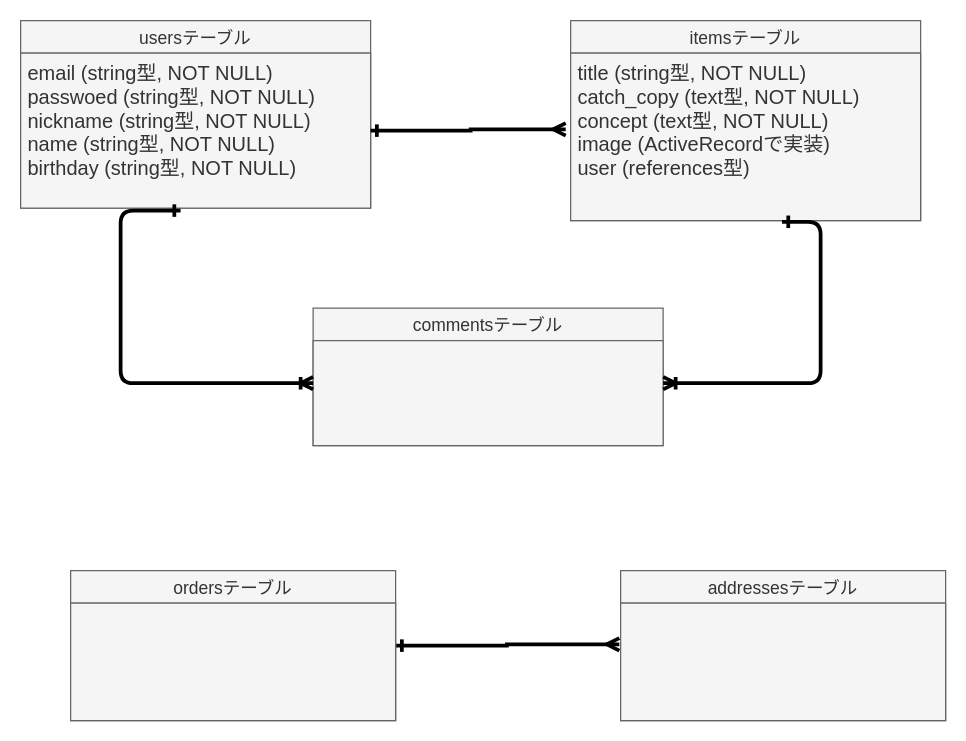
This 966x741 diagram has some shape labels left out. Here are the shapes that lost their labels. From the top down, the centre of each, then its label:
(x=487, y=392): text (text型, NOT NULL) user (references型) item (references型)
(x=232, y=661): order_name (string型, NOT NULL) order_address (string型, NOT NULL)
(x=782, y=661): order (references型)
